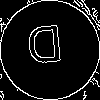D: (25, 25, 65, 74)
